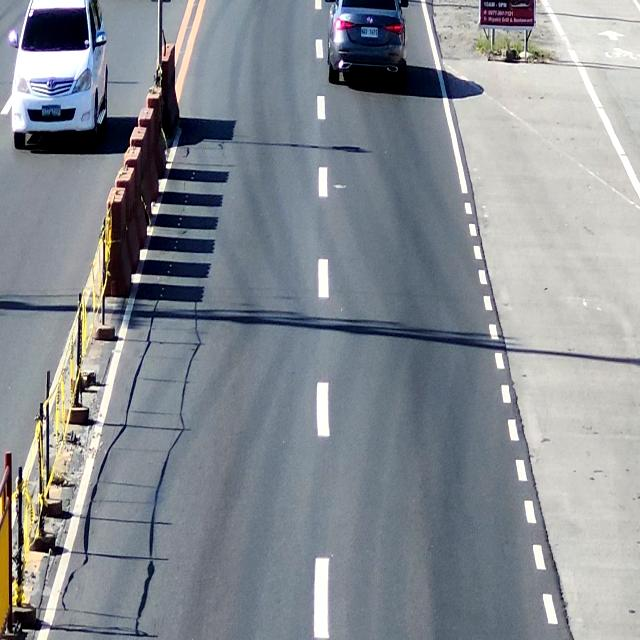Car: (326, 0, 410, 88)
License-Plate: (358, 26, 382, 40)
